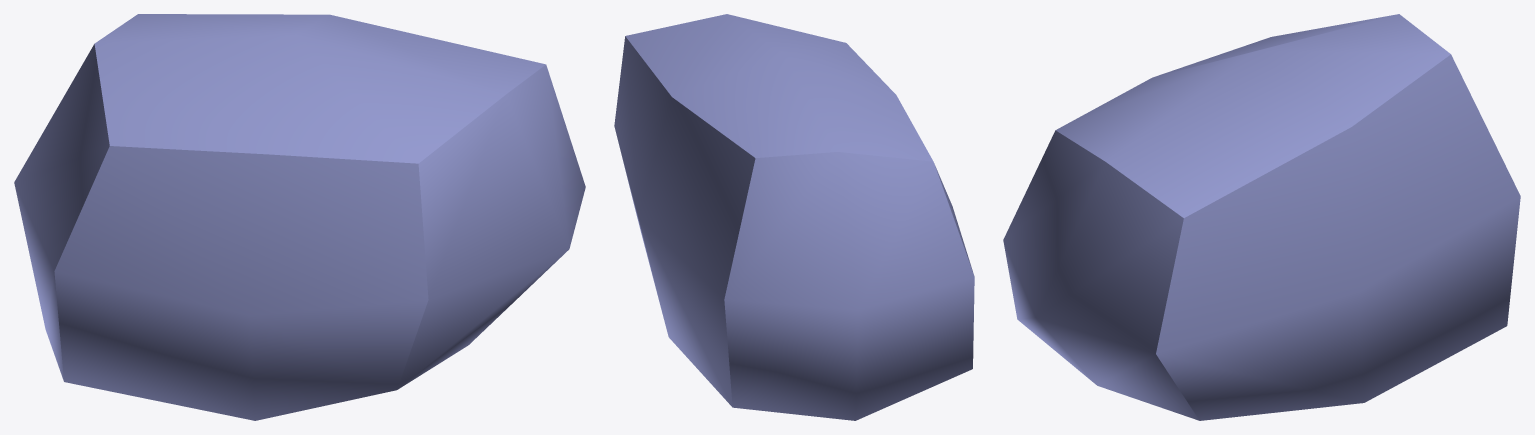
The model's file is Rook_1.fbx.
The picture shows the model from 3 angles, left to right: view 1: azimuth 30°, elevation 25°; view 2: azimuth 150°, elevation 25°; view 3: azimuth 270°, elevation 25°; orthographic projection. The views are drawn at different scales.
Parts seen in each view (by area): view 1: Cube.041; view 2: Cube.041; view 3: Cube.041.
Part boxes in pixels (x1,y1,x2,y2): Cube.041: (14,14,585,420); Cube.041: (614,14,974,420); Cube.041: (1003,14,1520,420).
Bounding box in the file's own units: 165 × 107 × 152.
